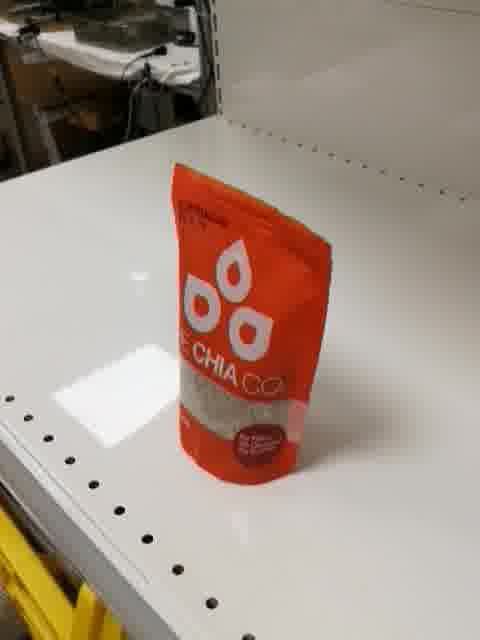whitechia: (169, 154, 335, 487)
